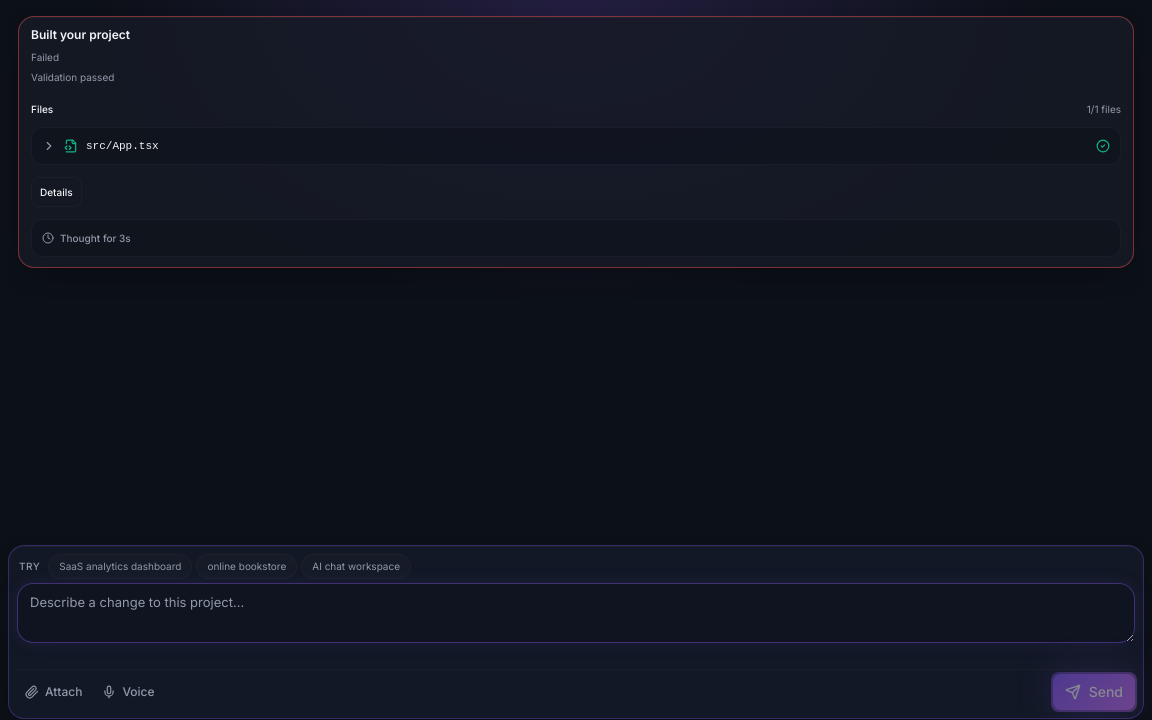
Test case: activity details and preview › reports failure and cancellation states truthfully
Later steps or results of the test are not shown.
Expected: the text "Failed" is shown, left=31, top=51, right=59, bottom=63
Click the button "Details" at (56, 192), box left=31, top=177, right=82, bottom=207
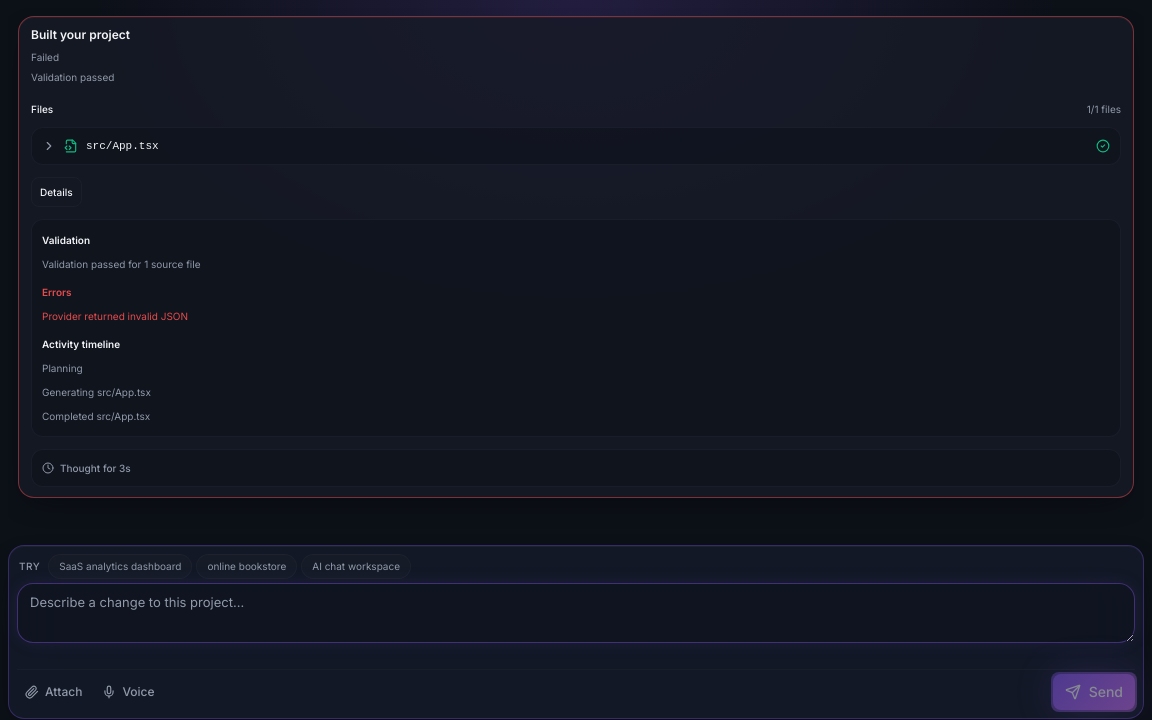
Now the text "Provider returned invalid JSON" is shown, box left=42, top=310, right=188, bottom=322
